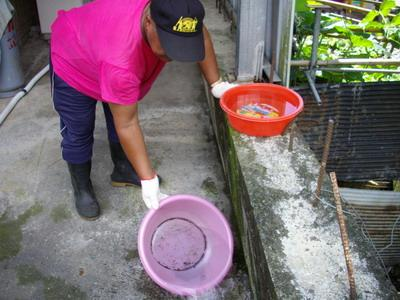bowl: (129, 190, 237, 296), (215, 80, 308, 140)
